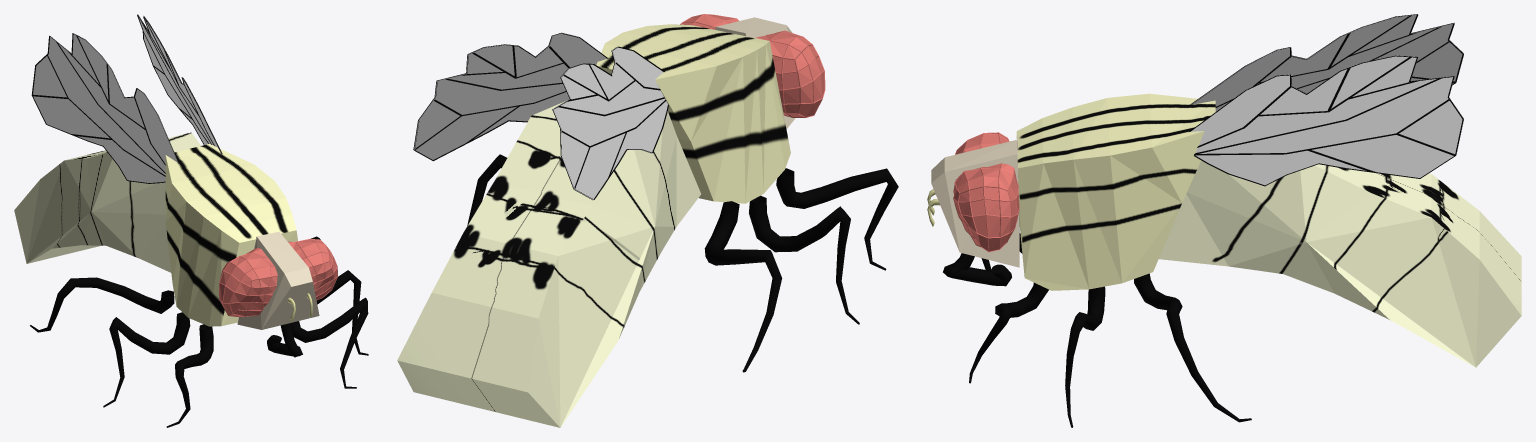
The model's file is ParasacrophagaruficornisLowPoly.fbx.
3 renders of one model, left to right at view 1: azimuth 30°, elevation 25°; view 2: azimuth 150°, elevation 25°; view 3: azimuth 270°, elevation 25°, orthographic. The views are drawn at different scales.
Parts seen in each view (by area): view 1: Thorax, Abdomen, RightWIng, Head, RightEye, LeftWing, Wire.003, Leg6, Leg5, LeftEye, LEg1, Wire.002 (+5 smaller); view 2: Abdomen, Thorax, LeftWing, RightWIng, RightEye, Leg4, Leg5, Leg6, Wire.002, Wire.003, Head, Wire.001 (+2 smaller); view 3: Abdomen, Thorax, LeftWing, RightWIng, LeftEye, Head, Wire.002, LEg3, Leg2, Wire.003, LEg1, Wire (+2 smaller).
Part boxes in pixels (x1,y1,x2,y2): Thorax: [165, 144, 297, 326]; Abdomen: [14, 132, 200, 272]; RightWIng: [33, 34, 178, 182]; Head: [237, 231, 319, 329]; RightEye: [219, 247, 277, 316]; LeftWing: [139, 18, 220, 151]; Wire.003: [31, 33, 178, 183]; Leg6: [30, 277, 174, 332]; Leg5: [103, 312, 190, 407]; LeftEye: [288, 239, 337, 299]; LEg1: [291, 297, 368, 388]; Wire.002: [137, 14, 222, 153]; Abdomen: [397, 100, 700, 427]; Thorax: [596, 24, 790, 203]; LeftWing: [414, 33, 606, 159]; RightWIng: [553, 46, 667, 199]; RightEye: [756, 30, 824, 117]; Leg4: [776, 168, 898, 270]; Leg5: [749, 195, 859, 324]; Leg6: [704, 201, 782, 372]; Wire.002: [413, 32, 608, 161]; Wire.003: [552, 46, 668, 199]; Head: [715, 17, 795, 129]; Wire.001: [756, 33, 825, 117]; Abdomen: [1159, 160, 1521, 367]; Thorax: [1016, 93, 1215, 290]; LeftWing: [1191, 55, 1463, 185]; RightWIng: [1191, 14, 1463, 111]; LeftEye: [953, 163, 1018, 251]; Head: [931, 139, 1019, 267]; Wire.002: [1189, 55, 1463, 186]; LEg3: [1134, 273, 1251, 422]; Leg2: [1065, 286, 1105, 427]; Wire.003: [1190, 14, 1463, 107]; LEg1: [969, 282, 1048, 383]; Wire: [953, 163, 1019, 252].
Bounding box in the file's own units: 522 × 495 × 834.
6 materials, 2 textured.
